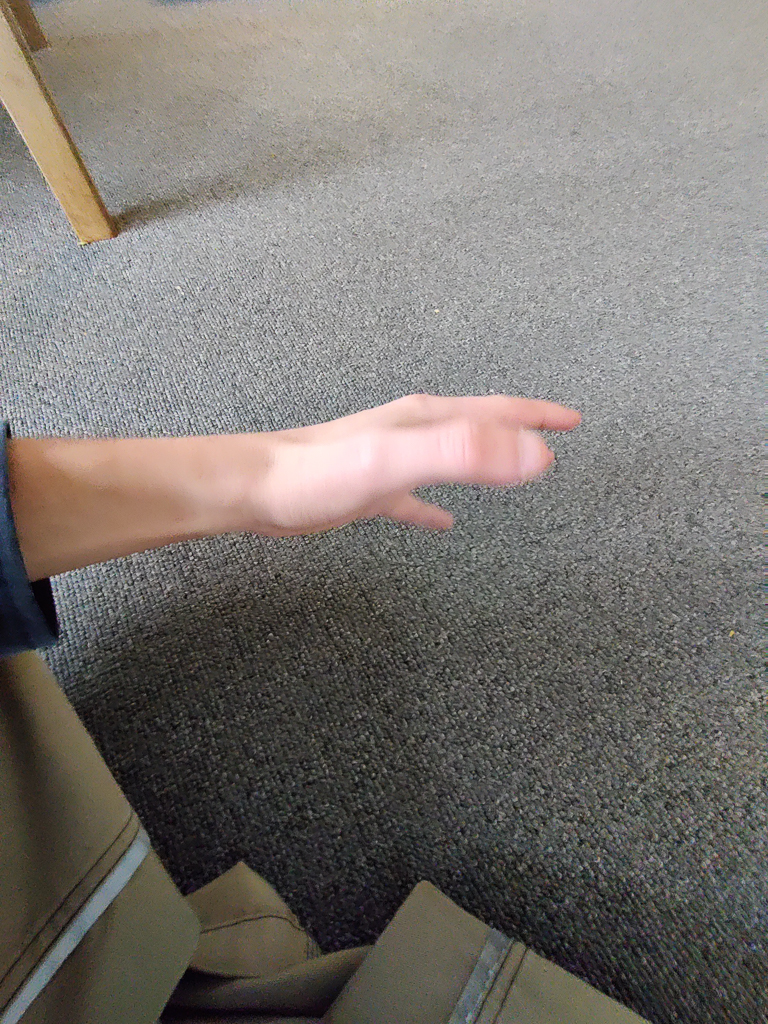Humanoid: (0, 379, 659, 1024)
